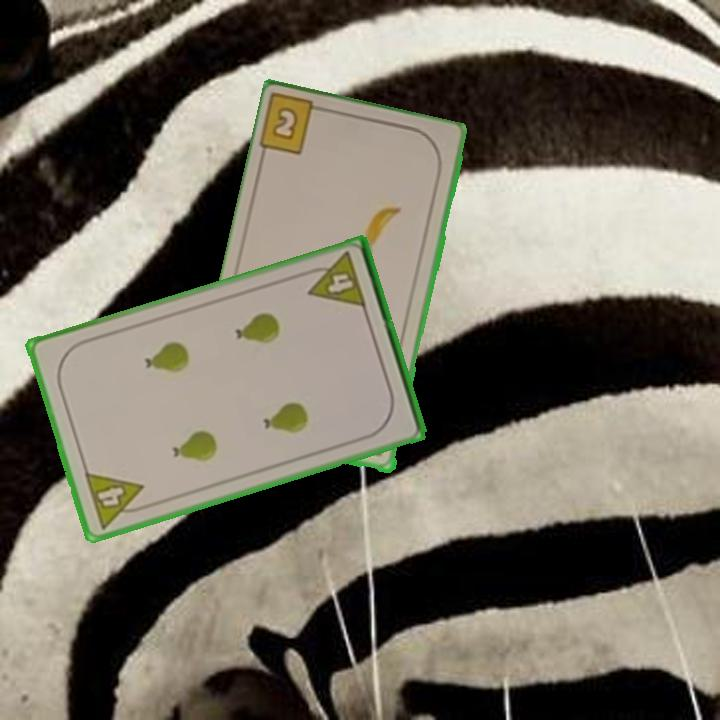2b: (258, 93, 333, 159)
4p: (81, 468, 152, 532), (300, 248, 369, 312)
